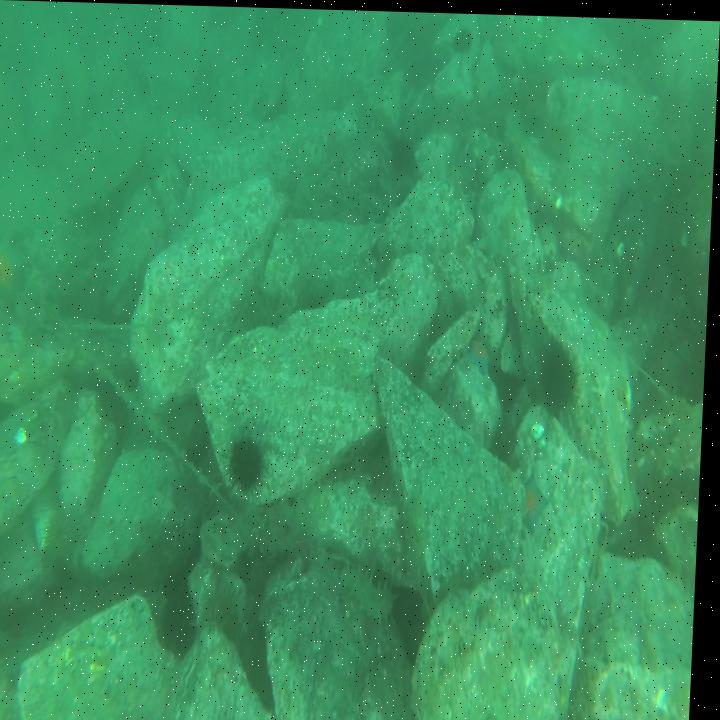echinus: (539, 326, 584, 415), (229, 421, 281, 498), (201, 581, 248, 650), (238, 553, 278, 602), (450, 23, 475, 57)
holothurian: (341, 553, 404, 628)
starfish: (521, 460, 557, 529), (0, 235, 28, 317), (466, 325, 500, 374)
